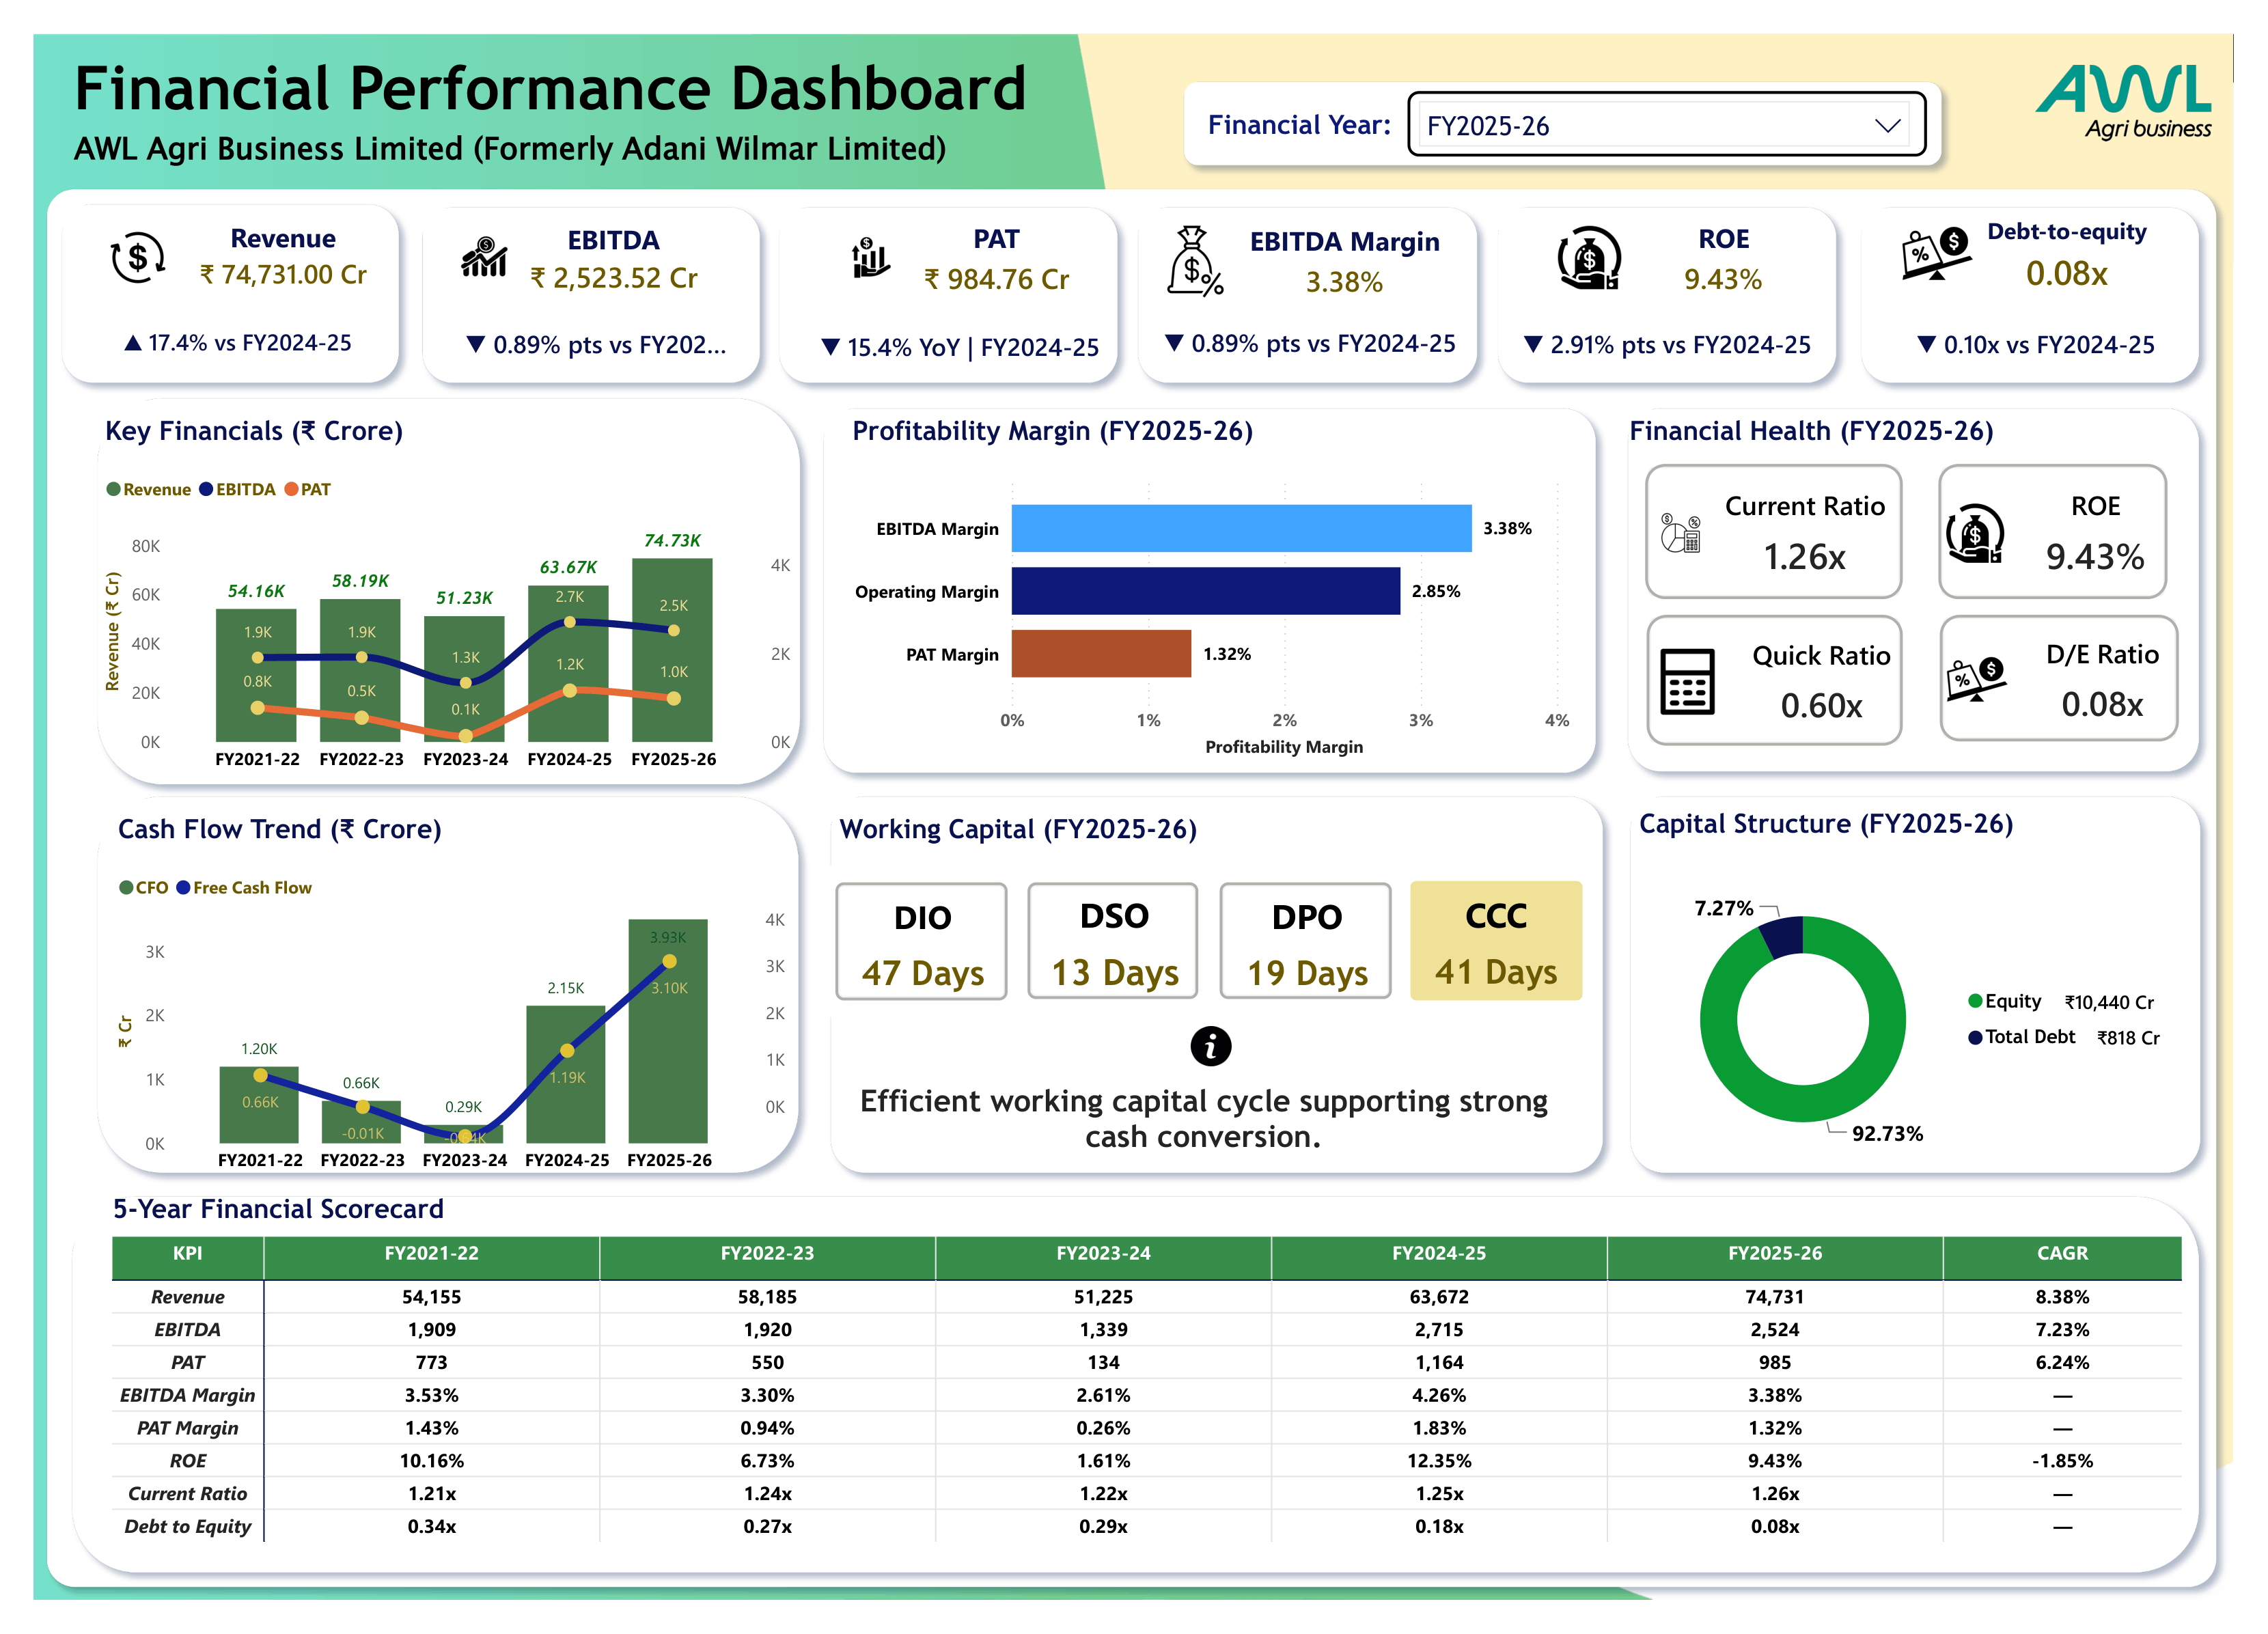

What the dashboard file says about the page in this screenshot:
{"tool":"powerbi","page":{"name":"Dashboard","canvas":[1545,1100],"ordinal":1},"visuals":[{"type":"shape","box":[799,25,550,76],"z":0},{"type":"shape","box":[0,100,1542,1000],"z":1000},{"type":"image","box":[1405.6,0,124.3,96.7],"z":2000},{"type":"textbox","box":[23.3,8.3,890,81.7],"z":3000},{"type":"shape","box":[10.9,110.9,254.5,142.7],"z":4000},{"type":"shape","box":[546,254,560,274],"z":5000},{"type":"cardVisual","title":"Revenue","fields":{"Data":["IS.Revenue Display"]},"box":[28.8,88.8,226.2,136.2],"z":6000},{"type":"slicer","title":"Select Financial Year","fields":{"Values":["Dim Year.Financial Year"]},"box":[965,40,365,46],"z":7000},{"type":"textbox","box":[23.3,60,650,81.7],"z":8000},{"type":"shape","box":[263.6,112.7,255.5,140.9],"z":9000},{"type":"shape","box":[515.5,112.7,254.5,140.9],"z":10000},{"type":"shape","box":[767.3,112.7,255.5,140.9],"z":11000},{"type":"shape","box":[1020,112.7,255.5,140.9],"z":12000},{"type":"cardVisual","fields":{"Data":["IS.EBITDA"]},"box":[265,98.8,237.5,116.2],"z":13000},{"type":"cardVisual","fields":{"Data":["IS.PAT"]},"box":[546.4,99.4,211.7,116.7],"z":14000},{"type":"cardVisual","fields":{"Data":["IS.EBITDA Margin"]},"box":[772.9,101.4,232.9,117.1],"z":15000},{"type":"cardVisual","fields":{"Data":["BS.ROE"]},"box":[1051,99.4,211.7,116.7],"z":16000},{"type":"shape","box":[1275.5,112.7,254.5,140.9],"z":17000},{"type":"cardVisual","fields":{"Data":["BS.Debt-to-Equity"]},"box":[1292.5,96.2,211.7,116.7],"z":18000},{"type":"cardVisual","fields":{"Data":["IS.Revenue YoY Display"]},"box":[40,185,206.7,58.3],"z":19000},{"type":"cardVisual","fields":{"Data":["IS.EBITDA Margin Display"]},"box":[286.2,186.2,223.3,58.3],"z":20000},{"type":"cardVisual","fields":{"Data":["IS.PAT YoY Display"]},"box":[532.5,187.5,235.6,58.9],"z":21000},{"type":"cardVisual","fields":{"Data":["IS.EBITDA Margin Display"]},"box":[773,185,247,58],"z":22000},{"type":"cardVisual","fields":{"Data":["BS.ROE Display"]},"box":[1020,186.2,255,58.8],"z":23000},{"type":"cardVisual","fields":{"Data":["BS.Debt to Equity YoY Display"]},"box":[1295,186,223.3,58.3],"z":24000},{"type":"shape","box":[36,247,511,289],"z":25000},{"type":"lineClusteredColumnComboChart","title":"Key Financials (₹ Crore)","fields":{"Category":["IS.Financial Year"],"Y":["IS.Revenue Main"],"Y2":["IS.EBITDA Main","IS.PAT Main"]},"box":[45,266.7,491.7,260],"z":26000},{"type":"shape","box":[35.7,527.1,510,281.4],"z":27000},{"type":"lineClusteredColumnComboChart","title":"Cash Flow Trend (₹ Crore)","fields":{"Category":["CFS.Financial Year"],"Y":["CFS.CFO"],"Y2":["CFS.Free Cash Flow"]},"box":[54.3,547.1,478.6,261.4],"z":28000},{"type":"shape","box":[18,808,1512,282],"z":29000},{"type":"textbox","box":[50,808.6,394.5,42.5],"z":30000},{"type":"pivotTable","fields":{"Columns":["Matrix Columns.Column"],"Rows":["KPI Matrix.KPI"],"Values":["IS.KPI Matrix Final"]},"box":[50,837.1,1468.6,238.6],"z":31000},{"type":"shape","box":[551.4,527.1,560,281.4],"z":32000},{"type":"textbox","box":[561.4,547.1,327.7,37.1],"z":33000},{"type":"shape","box":[1111,254,419,273],"z":34000},{"type":"shape","box":[1112.9,527.1,418.6,281.4],"z":35000},{"type":"textbox","box":[1115.7,267.1,327.7,37.1],"z":36000},{"type":"clusteredBarChart","fields":{"Category":["Profitability KPI.KPI"],"Y":["IS.Profitability Margin Value"]},"box":[570,267.1,514.3,245.7],"z":37000},{"type":"cardVisual","fields":{"Data":["BS.DIO Display"]},"box":[551.2,583.7,145,107.5],"z":38000},{"type":"cardVisual","fields":{"Data":["BS.DSO Display"]},"box":[686.2,583.7,144.5,106.4],"z":39000},{"type":"cardVisual","fields":{"Data":["BS.DPO Display"]},"box":[821.2,583.7,145.5,106.4],"z":40000},{"type":"cardVisual","fields":{"Data":["BS.CCC Display"]},"box":[960,587.6,135.7,98.6],"z":41000},{"type":"actionButton","box":[561.4,737.1,521.2,47.5],"z":42000},{"type":"image","box":[812.9,684.3,28.6,52.9],"z":43000},{"type":"cardVisual","fields":{"Data":["BS.Current Ratio Display"]},"box":[1115.4,285.4,215.4,129.2],"z":44000},{"type":"cardVisual","fields":{"Data":["BS.Quick Ratio Display"]},"box":[1116.2,390.8,214.6,126.9],"z":45000},{"type":"cardVisual","fields":{"Data":["BS.Debt-to-Equity Preview"]},"box":[1322.3,390.8,202.3,123.1],"z":46000},{"type":"cardVisual","fields":{"Data":["BS.ROE Preivew"]},"box":[1320.8,285.4,195.4,129.2],"z":47000},{"type":"donutChart","fields":{"Category":["Capital Structure.Component"],"Y":["BS.Capital Structure Value"]},"box":[1123.3,543.3,325.8,265],"z":48000},{"type":"textbox","title":"Financial Year:","box":[820,52,148,37],"z":49000},{"type":"cardVisual","title":"Equity ","fields":{"Data":["BS.Equity Display"]},"box":[1418.3,657.5,80.8,40],"z":50000},{"type":"cardVisual","title":"Equity ","fields":{"Data":["BS.Total Debt Display"]},"box":[1428.3,690,87.5,26.7],"z":51000}]}

Visuals, with their boxes on the page's 1545x1100 design canvas (x1, y1, x2, y2). These are canvas units, not pixel positions in the 2268x1634 screenshot, which may show the page scaled, cropped or inside an application window:
shape: BBox(799, 25, 1349, 101)
shape: BBox(0, 100, 1542, 1100)
image: BBox(1406, 0, 1530, 97)
textbox: BBox(23, 8, 913, 90)
shape: BBox(11, 111, 265, 254)
shape: BBox(546, 254, 1106, 528)
"Revenue" cardVisual: BBox(29, 89, 255, 225)
"Select Financial Year" slicer: BBox(965, 40, 1330, 86)
textbox: BBox(23, 60, 673, 142)
shape: BBox(264, 113, 519, 254)
shape: BBox(516, 113, 770, 254)
shape: BBox(767, 113, 1023, 254)
shape: BBox(1020, 113, 1276, 254)
cardVisual - IS.EBITDA: BBox(265, 99, 502, 215)
cardVisual - IS.PAT: BBox(546, 99, 758, 216)
cardVisual - IS.EBITDA Margin: BBox(773, 101, 1006, 218)
cardVisual - BS.ROE: BBox(1051, 99, 1263, 216)
shape: BBox(1276, 113, 1530, 254)
cardVisual - BS.Debt-to-Equity: BBox(1292, 96, 1504, 213)
cardVisual - IS.Revenue YoY Display: BBox(40, 185, 247, 243)
cardVisual - IS.EBITDA Margin Display: BBox(286, 186, 510, 244)
cardVisual - IS.PAT YoY Display: BBox(532, 188, 768, 246)
cardVisual - IS.EBITDA Margin Display: BBox(773, 185, 1020, 243)
cardVisual - BS.ROE Display: BBox(1020, 186, 1275, 245)
cardVisual - BS.Debt to Equity YoY Display: BBox(1295, 186, 1518, 244)
shape: BBox(36, 247, 547, 536)
"Key Financials (₹ Crore)" lineClusteredColumnComboChart: BBox(45, 267, 537, 527)
shape: BBox(36, 527, 546, 808)
"Cash Flow Trend (₹ Crore)" lineClusteredColumnComboChart: BBox(54, 547, 533, 808)
shape: BBox(18, 808, 1530, 1090)
textbox: BBox(50, 809, 444, 851)
pivotTable - Matrix Columns.Column x KPI Matrix.KPI: BBox(50, 837, 1519, 1076)
shape: BBox(551, 527, 1111, 808)
textbox: BBox(561, 547, 889, 584)
shape: BBox(1111, 254, 1530, 527)
shape: BBox(1113, 527, 1532, 808)
textbox: BBox(1116, 267, 1443, 304)
clusteredBarChart - Profitability KPI.KPI x IS.Profitability Margin Value: BBox(570, 267, 1084, 513)
cardVisual - BS.DIO Display: BBox(551, 584, 696, 691)
cardVisual - BS.DSO Display: BBox(686, 584, 831, 690)
cardVisual - BS.DPO Display: BBox(821, 584, 967, 690)
cardVisual - BS.CCC Display: BBox(960, 588, 1096, 686)
actionButton: BBox(561, 737, 1083, 785)
image: BBox(813, 684, 842, 737)
cardVisual - BS.Current Ratio Display: BBox(1115, 285, 1331, 415)
cardVisual - BS.Quick Ratio Display: BBox(1116, 391, 1331, 518)
cardVisual - BS.Debt-to-Equity Preview: BBox(1322, 391, 1525, 514)
cardVisual - BS.ROE Preivew: BBox(1321, 285, 1516, 415)
donutChart - Capital Structure.Component x BS.Capital Structure Value: BBox(1123, 543, 1449, 808)
"Financial Year:" textbox: BBox(820, 52, 968, 89)
"Equity " cardVisual: BBox(1418, 658, 1499, 698)
"Equity " cardVisual: BBox(1428, 690, 1516, 717)
